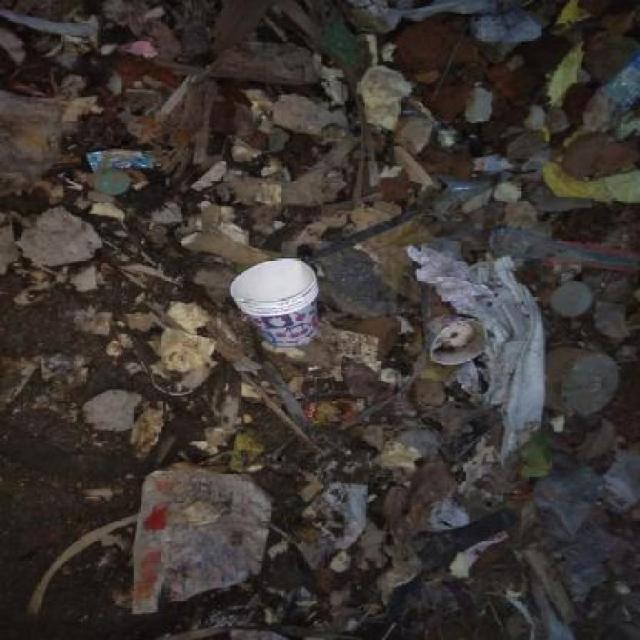garbage: (46, 43, 587, 218), (66, 433, 298, 610), (416, 233, 529, 430), (180, 237, 346, 356), (539, 456, 640, 640), (25, 216, 160, 295)
